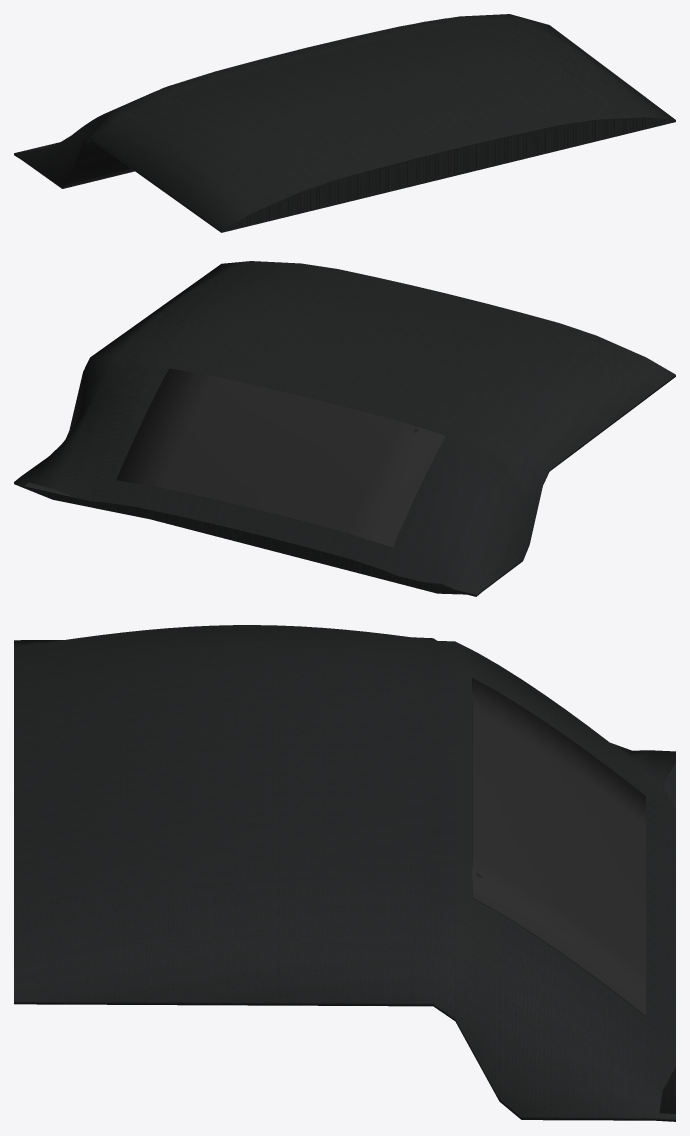
The model's file is HT41_hardtop_carbon.glb.
3 renders of one model, top to bottom at view 1: azimuth 30°, elevation 25°; view 2: azimuth 150°, elevation 25°; view 3: azimuth 270°, elevation 25°, orthographic. The views are drawn at different scales.
Visible parts, largest first — view 1: MOD_NA_HT41_shell; view 2: MOD_NA_HT41_shell, MOD_NA_HT41_rear_window; view 3: MOD_NA_HT41_shell, MOD_NA_HT41_rear_window.
Part boxes in pixels (x1=…): MOD_NA_HT41_shell: x1=14, y1=14, x2=675, y2=232; MOD_NA_HT41_shell: x1=14, y1=261, x2=675, y2=596; MOD_NA_HT41_rear_window: x1=116, y1=368, x2=445, y2=547; MOD_NA_HT41_shell: x1=14, y1=625, x2=675, y2=1121; MOD_NA_HT41_rear_window: x1=472, y1=678, x2=645, y2=1016.
Size of the model in its own units: 1.4 by 0.3409 by 1.07.
2 materials, 1 textured.
